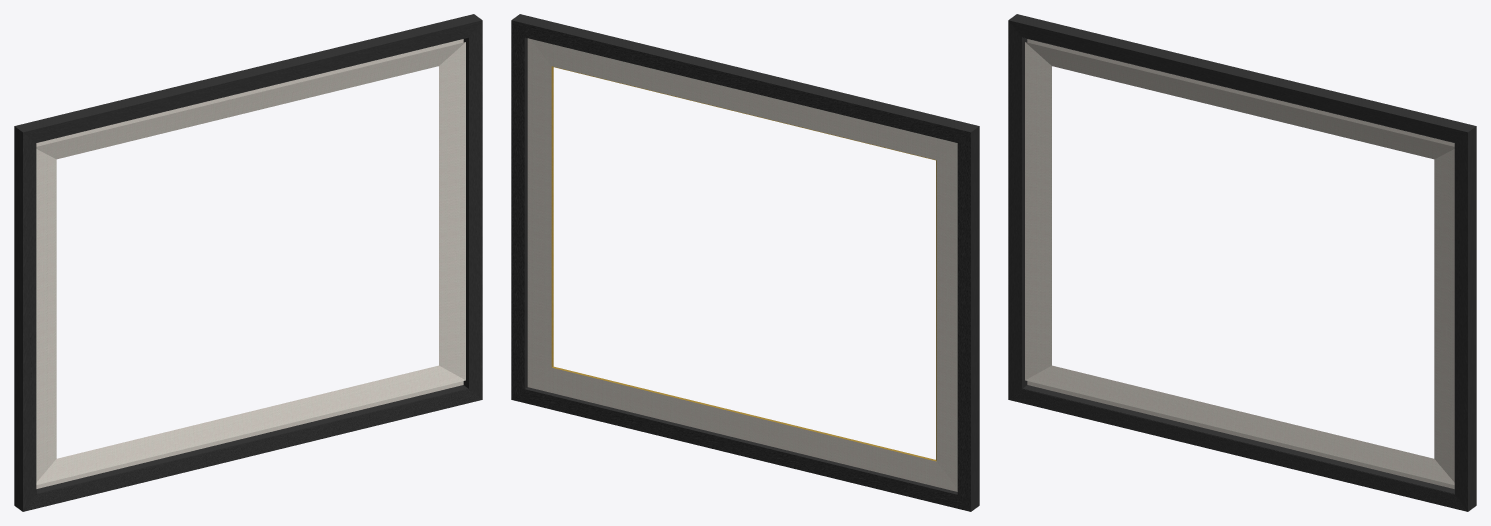
Rendered from outer_frame.fbx.
The picture shows the model from 3 angles, left to right: view 1: azimuth 30°, elevation 25°; view 2: azimuth 150°, elevation 25°; view 3: azimuth 330°, elevation 25°; orthographic projection.
Visible parts, largest first — view 1: Cube.001; view 2: Cube.001; view 3: Cube.001.
Boxes of the visible parts, <box> form: Cube.001: <box>14,14,482,511</box>; Cube.001: <box>511,14,979,511</box>; Cube.001: <box>1008,14,1476,511</box>.
Size of the model in its own units: 478 by 377 by 15.46.
Materials: 3 (3 with a texture image).
